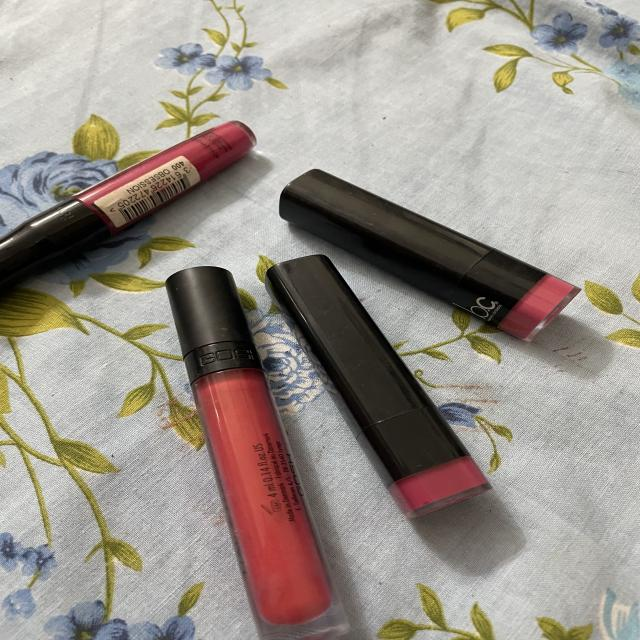lip gloss: (146, 248, 362, 640), (0, 113, 282, 284)
lip stick: (253, 237, 490, 515), (272, 142, 583, 340)
